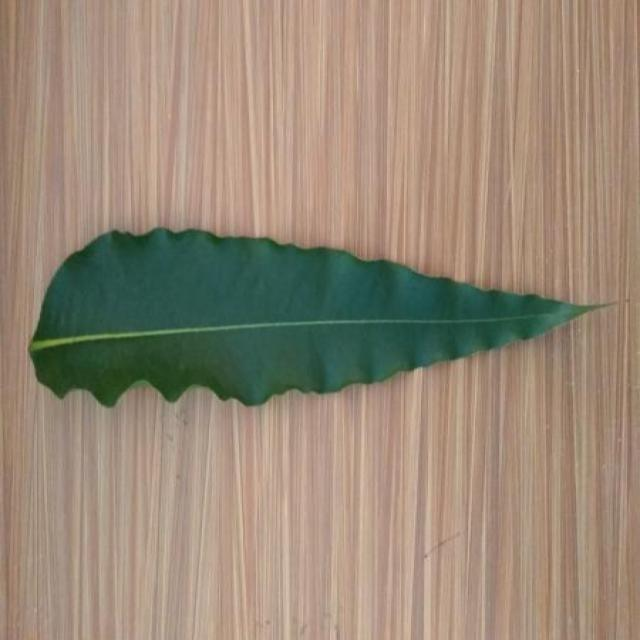ashoka: (30, 229, 603, 406)
